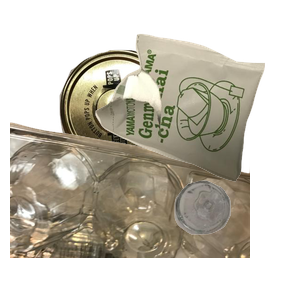glass: (172, 178, 300, 300)
metal: (57, 47, 227, 211)
plastic: (10, 120, 250, 300)
trash: (93, 31, 300, 205)
